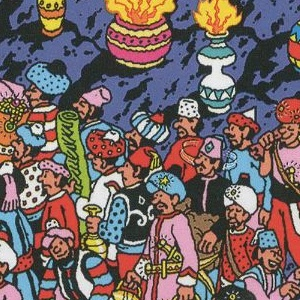Charlie: (113, 92, 186, 208)
